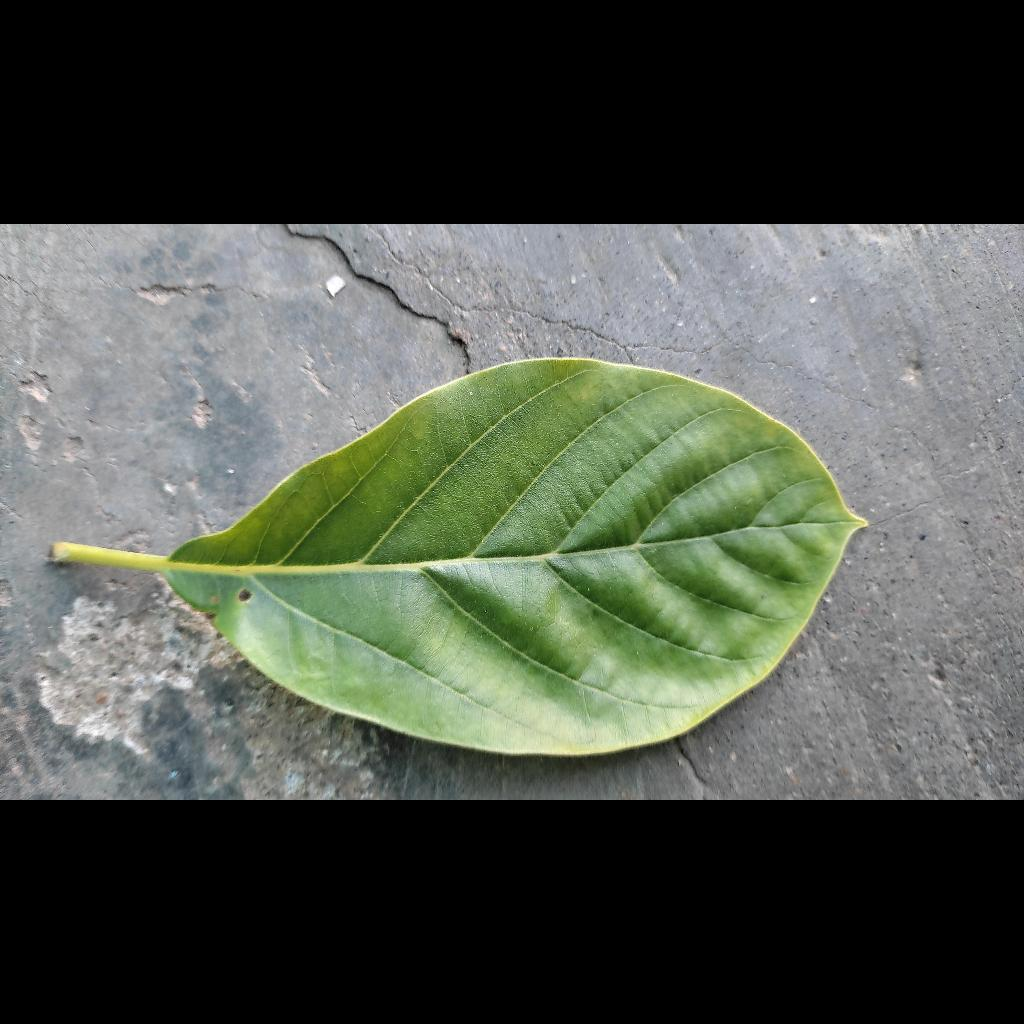hoja_sana: (54, 359, 864, 755)
